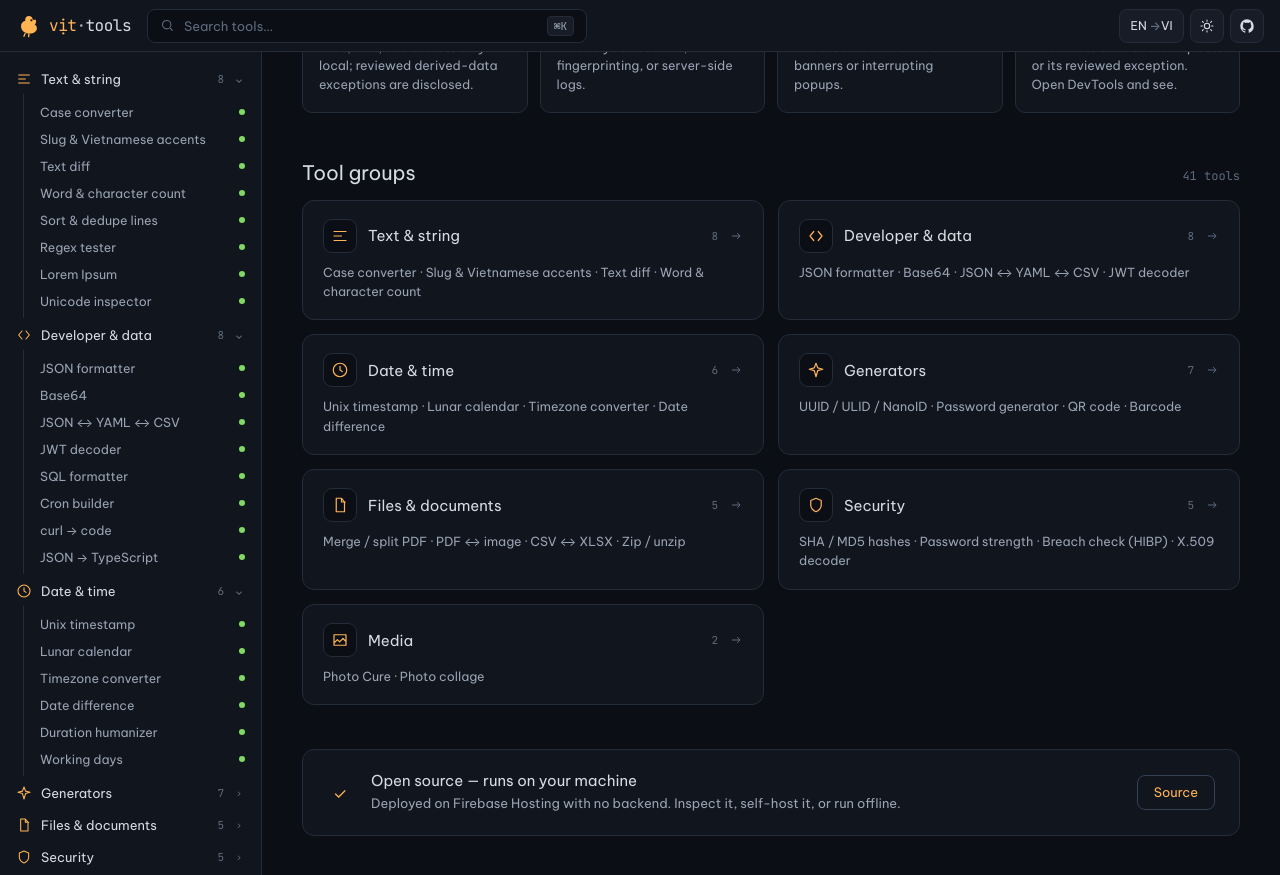
Test: tool platform shell › shows all five Security tools with the HIBP exception disclosed
(page scrolled)
Click the link "Security": (816, 505) x1=778 y1=469 x2=1240 y2=590
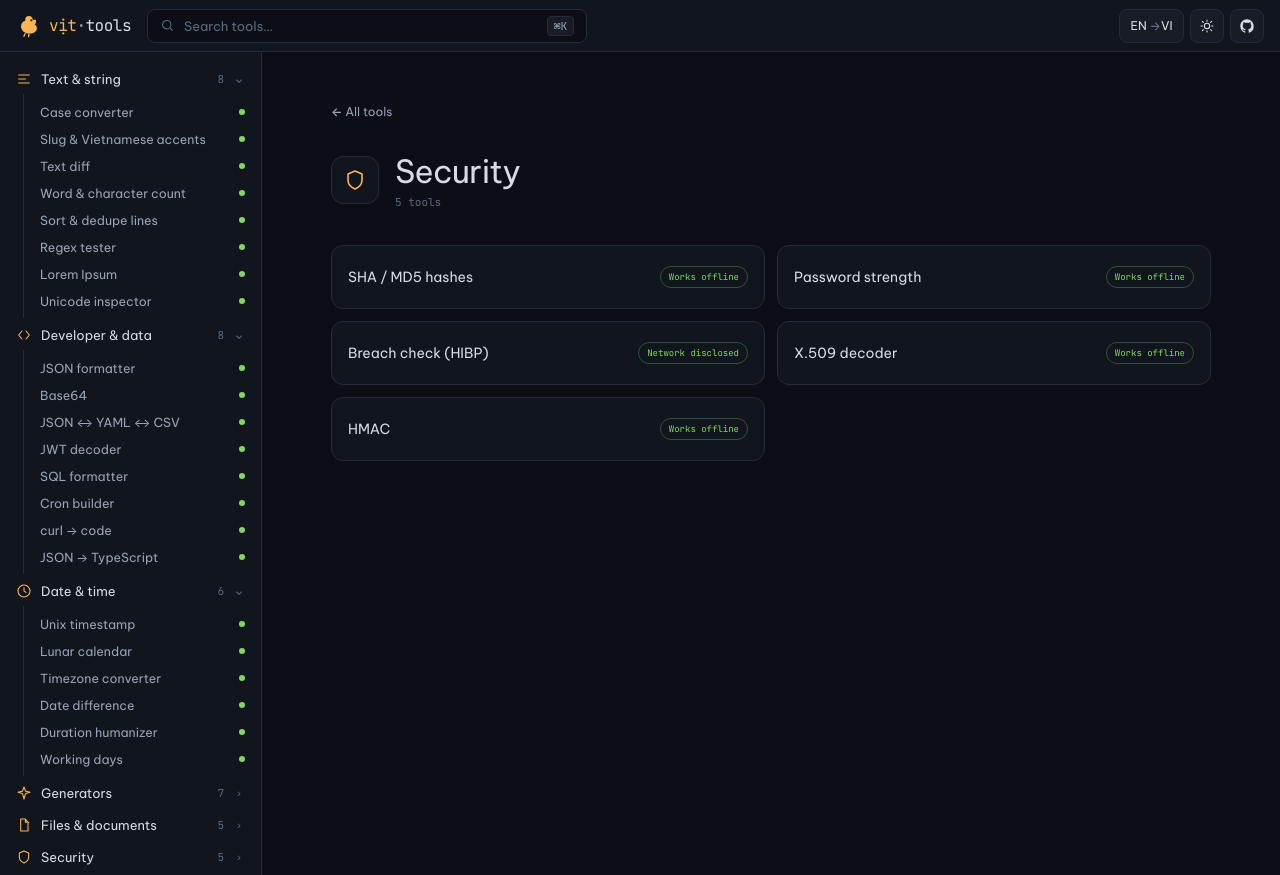
Expected: the heading "Security" is shown, x1=395 y1=151 x2=520 y2=191
Expected: the text "Works offline" is shown 4 times, x1=660 y1=266 x2=748 y2=288; x1=1106 y1=266 x2=1194 y2=288; x1=1106 y1=342 x2=1194 y2=364; x1=660 y1=418 x2=748 y2=440
Expected: the text "Network disclosed" is shown, x1=638 y1=342 x2=748 y2=364
